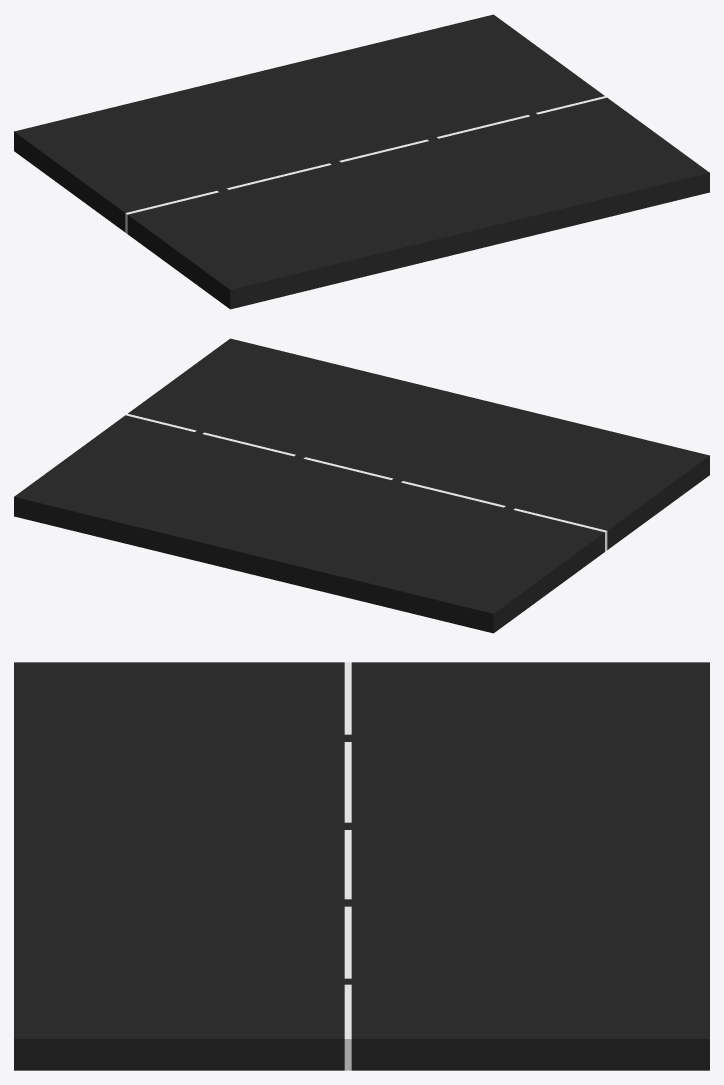
Rendered from Road.obj.
3 views of the same model, one above another, from view 1: azimuth 30°, elevation 25°; view 2: azimuth 150°, elevation 25°; view 3: azimuth 270°, elevation 25° (orthographic). The views are drawn at different scales.
Size of the model in its own units: 25.6 by 1 by 20.
1 material, 1 textured.
